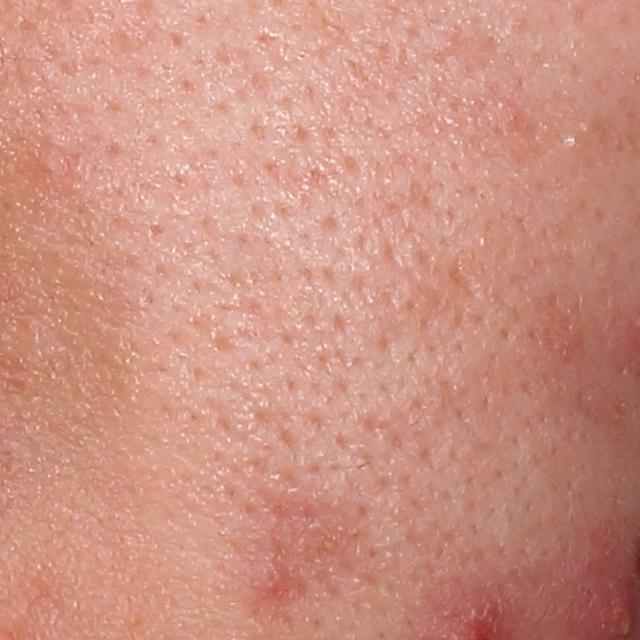comedo: (559, 130, 578, 151)
papule: (250, 559, 291, 594)
